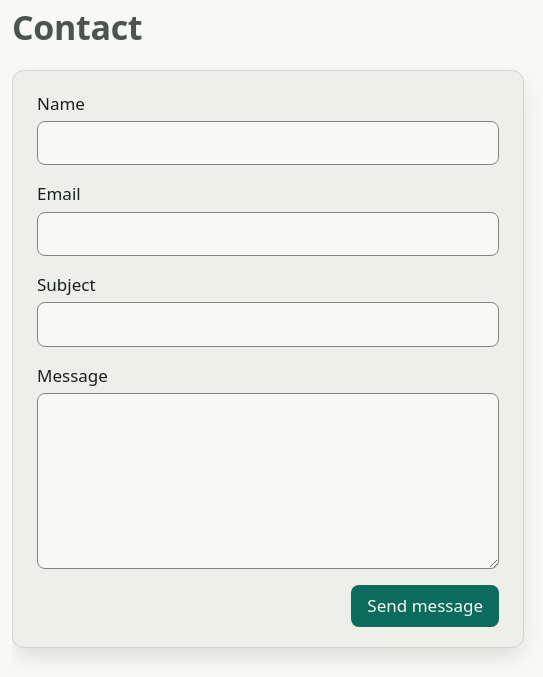
Test: ContactPage › sending a message › replaces the form with a "Message sent" heading
Type "Grace" into the field labelled "Name". click: (268, 143)
box: [37,121,499,165]
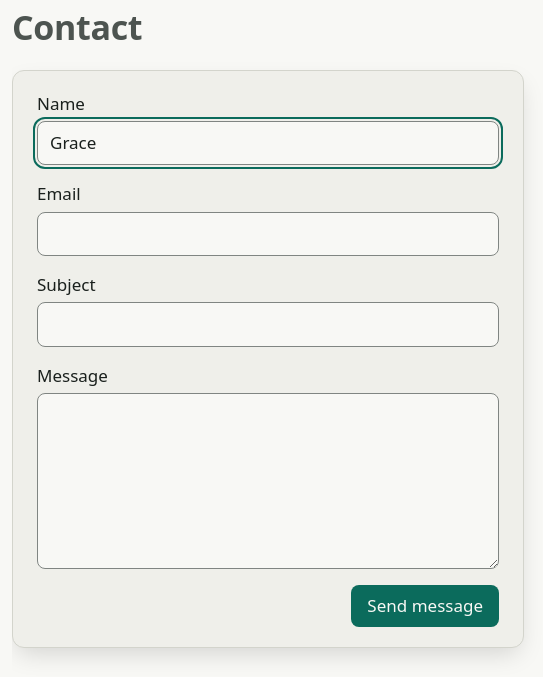
Type "grace@example.com" into the field labelled "Email". click: (268, 234)
box: [37,212,499,256]
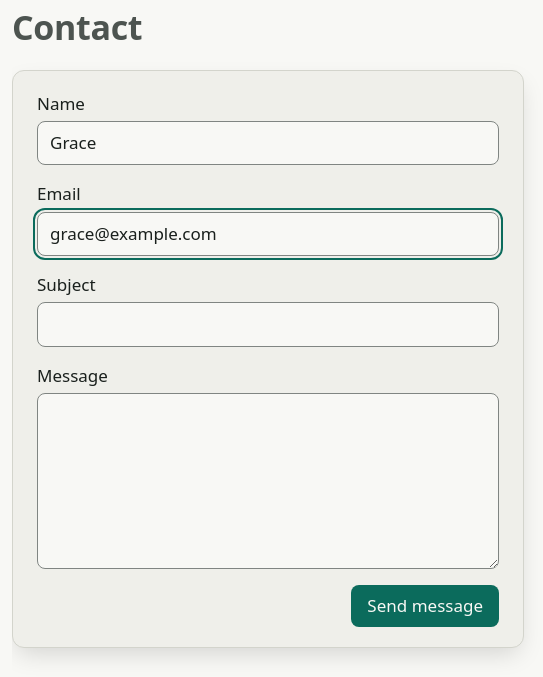
Type "Say hello" into the field labelled "Subject". click: (268, 324)
box: [37,302,499,347]
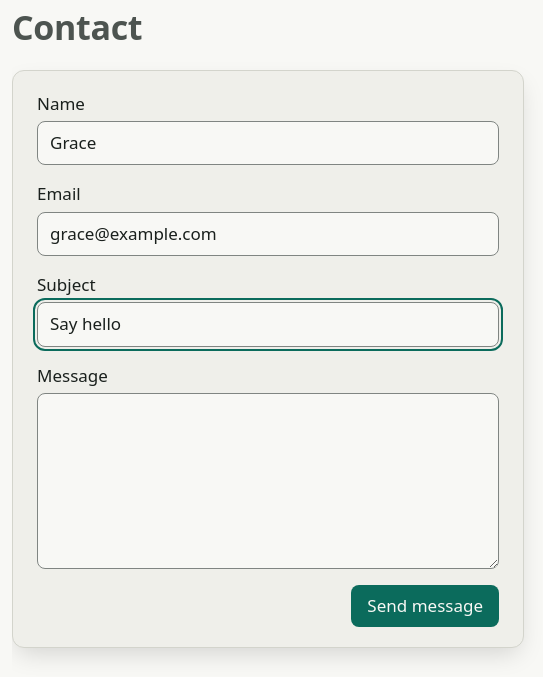
Type "Hello, I would like to talk." into the text box labelled "Message". click: (268, 481)
box: [37,393,499,569]
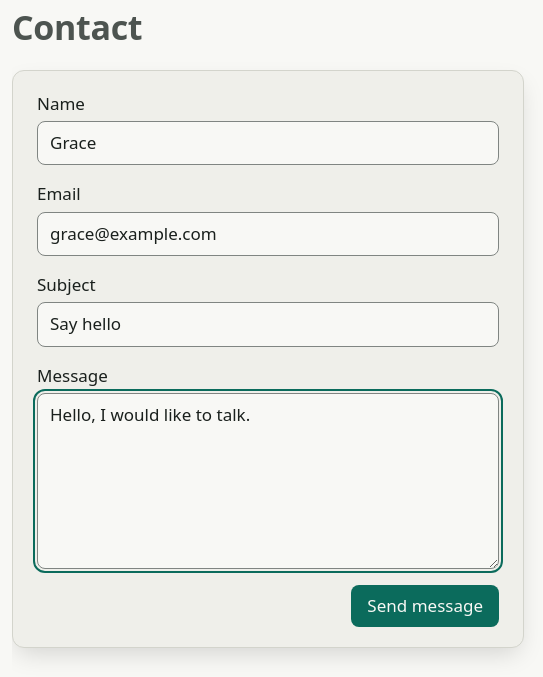
Click the button "Send message". click: (425, 606)
box: [351,585,499,627]
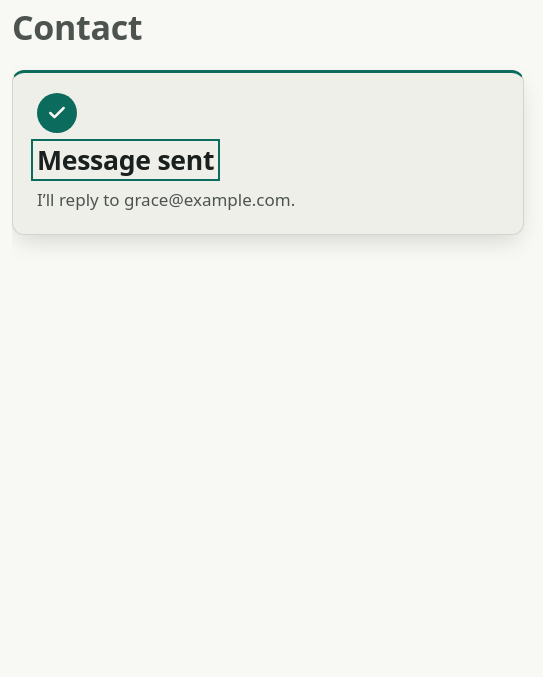
Check: the heading "Message sent" is shown, box [37,145,214,175]
Check: the button "Send message" is gone
